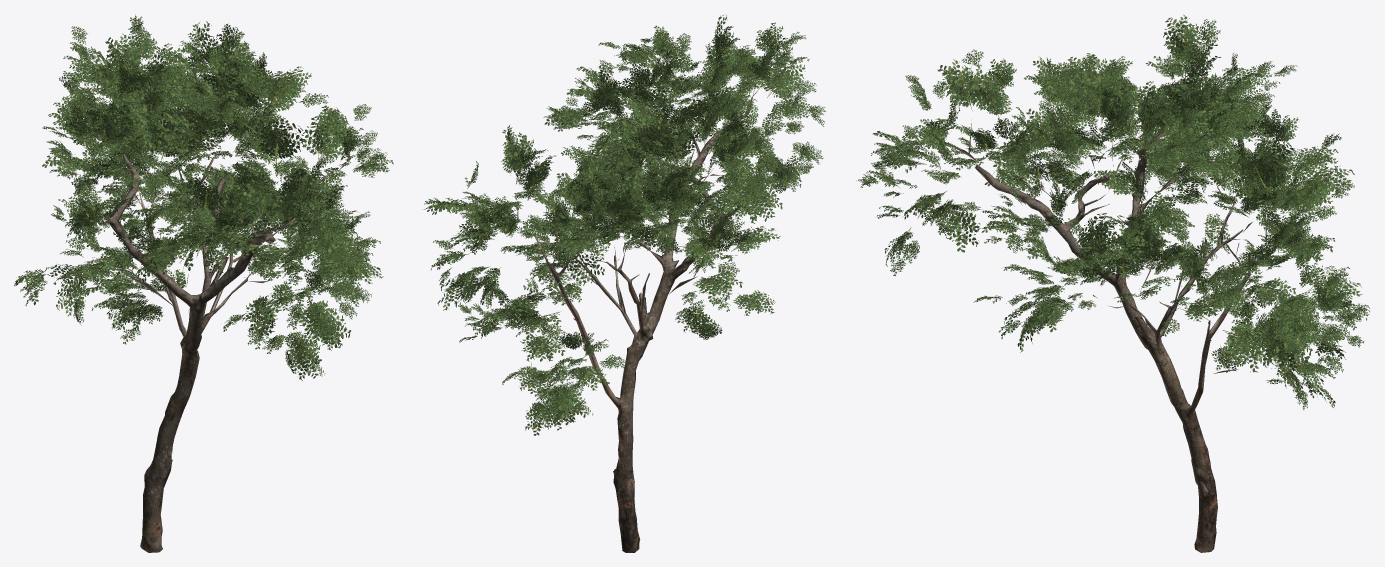
3 renders of one model, left to right at view 1: azimuth 30°, elevation 25°; view 2: azimuth 150°, elevation 25°; view 3: azimuth 270°, elevation 25°, orthographic. The views are drawn at different scales.
Parts seen in each view (by area): view 1: tree_small_02_LOD0; view 2: tree_small_02_LOD0; view 3: tree_small_02_LOD0.
Boxes of the visible parts, bbox=[...] form: tree_small_02_LOD0: bbox=[14, 14, 393, 552]; tree_small_02_LOD0: bbox=[424, 15, 825, 552]; tree_small_02_LOD0: bbox=[858, 14, 1369, 552].
Size of the model in its own units: 2.93 by 4.56 by 4.3.
3 materials, 3 textured.
